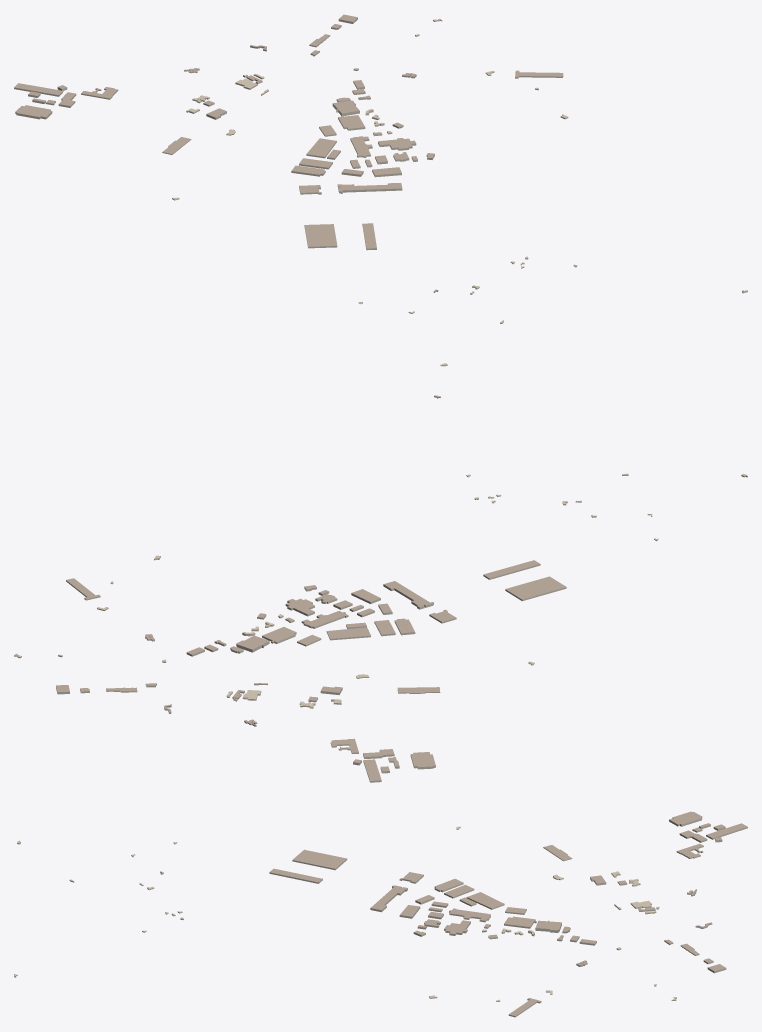
3 renders of one model, top to bottom at view 1: azimuth 30°, elevation 25°; view 2: azimuth 150°, elevation 25°; view 3: azimuth 270°, elevation 25°, orthographic. The views are drawn at different scales.
Bounding box in the file's own units: 3193 × 21.76 × 4852.
